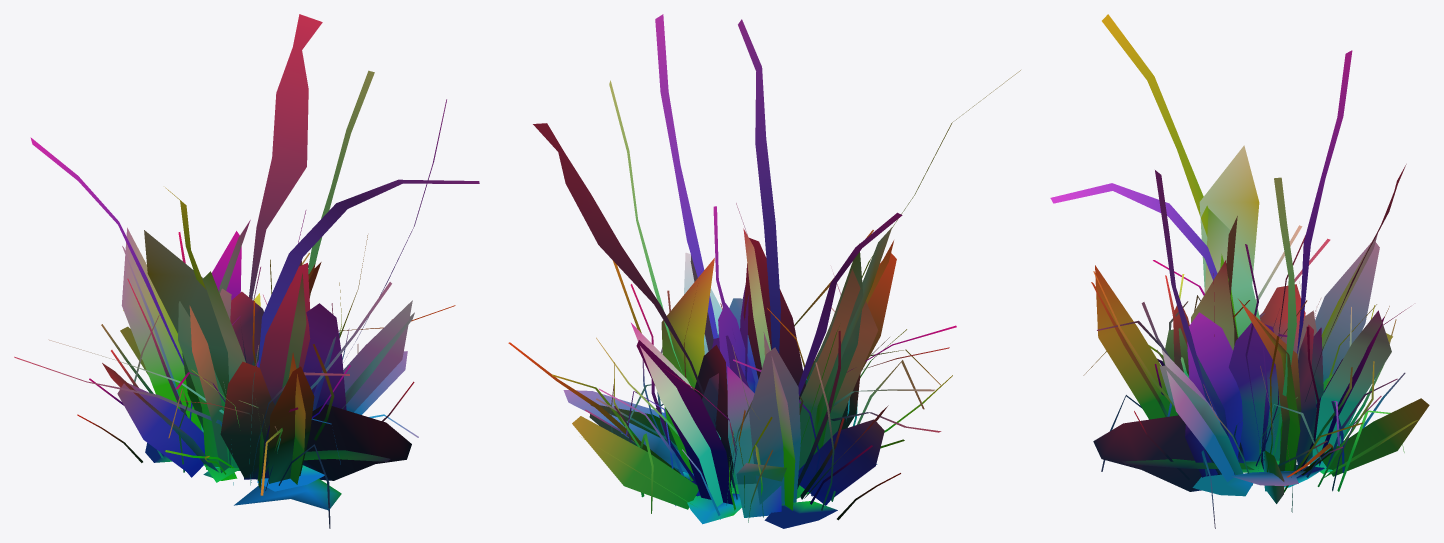
Rendered from uddmcgbia_VarH_LOD0.fbx.
3 renders of one model, left to right at view 1: azimuth 30°, elevation 25°; view 2: azimuth 150°, elevation 25°; view 3: azimuth 270°, elevation 25°, orthographic. The views are drawn at different scales.
Parts seen in each view (by area): view 1: _0958_VarH_LOD1; view 2: _0958_VarH_LOD1; view 3: _0958_VarH_LOD1.
Part boxes in pixels (x1=…): _0958_VarH_LOD1: x1=14, y1=14, x2=479, y2=528; _0958_VarH_LOD1: x1=508, y1=14, x2=1020, y2=528; _0958_VarH_LOD1: x1=1050, y1=14, x2=1429, y2=528.
Bounding box in the file's own units: 41.55 × 36.31 × 32.71.
